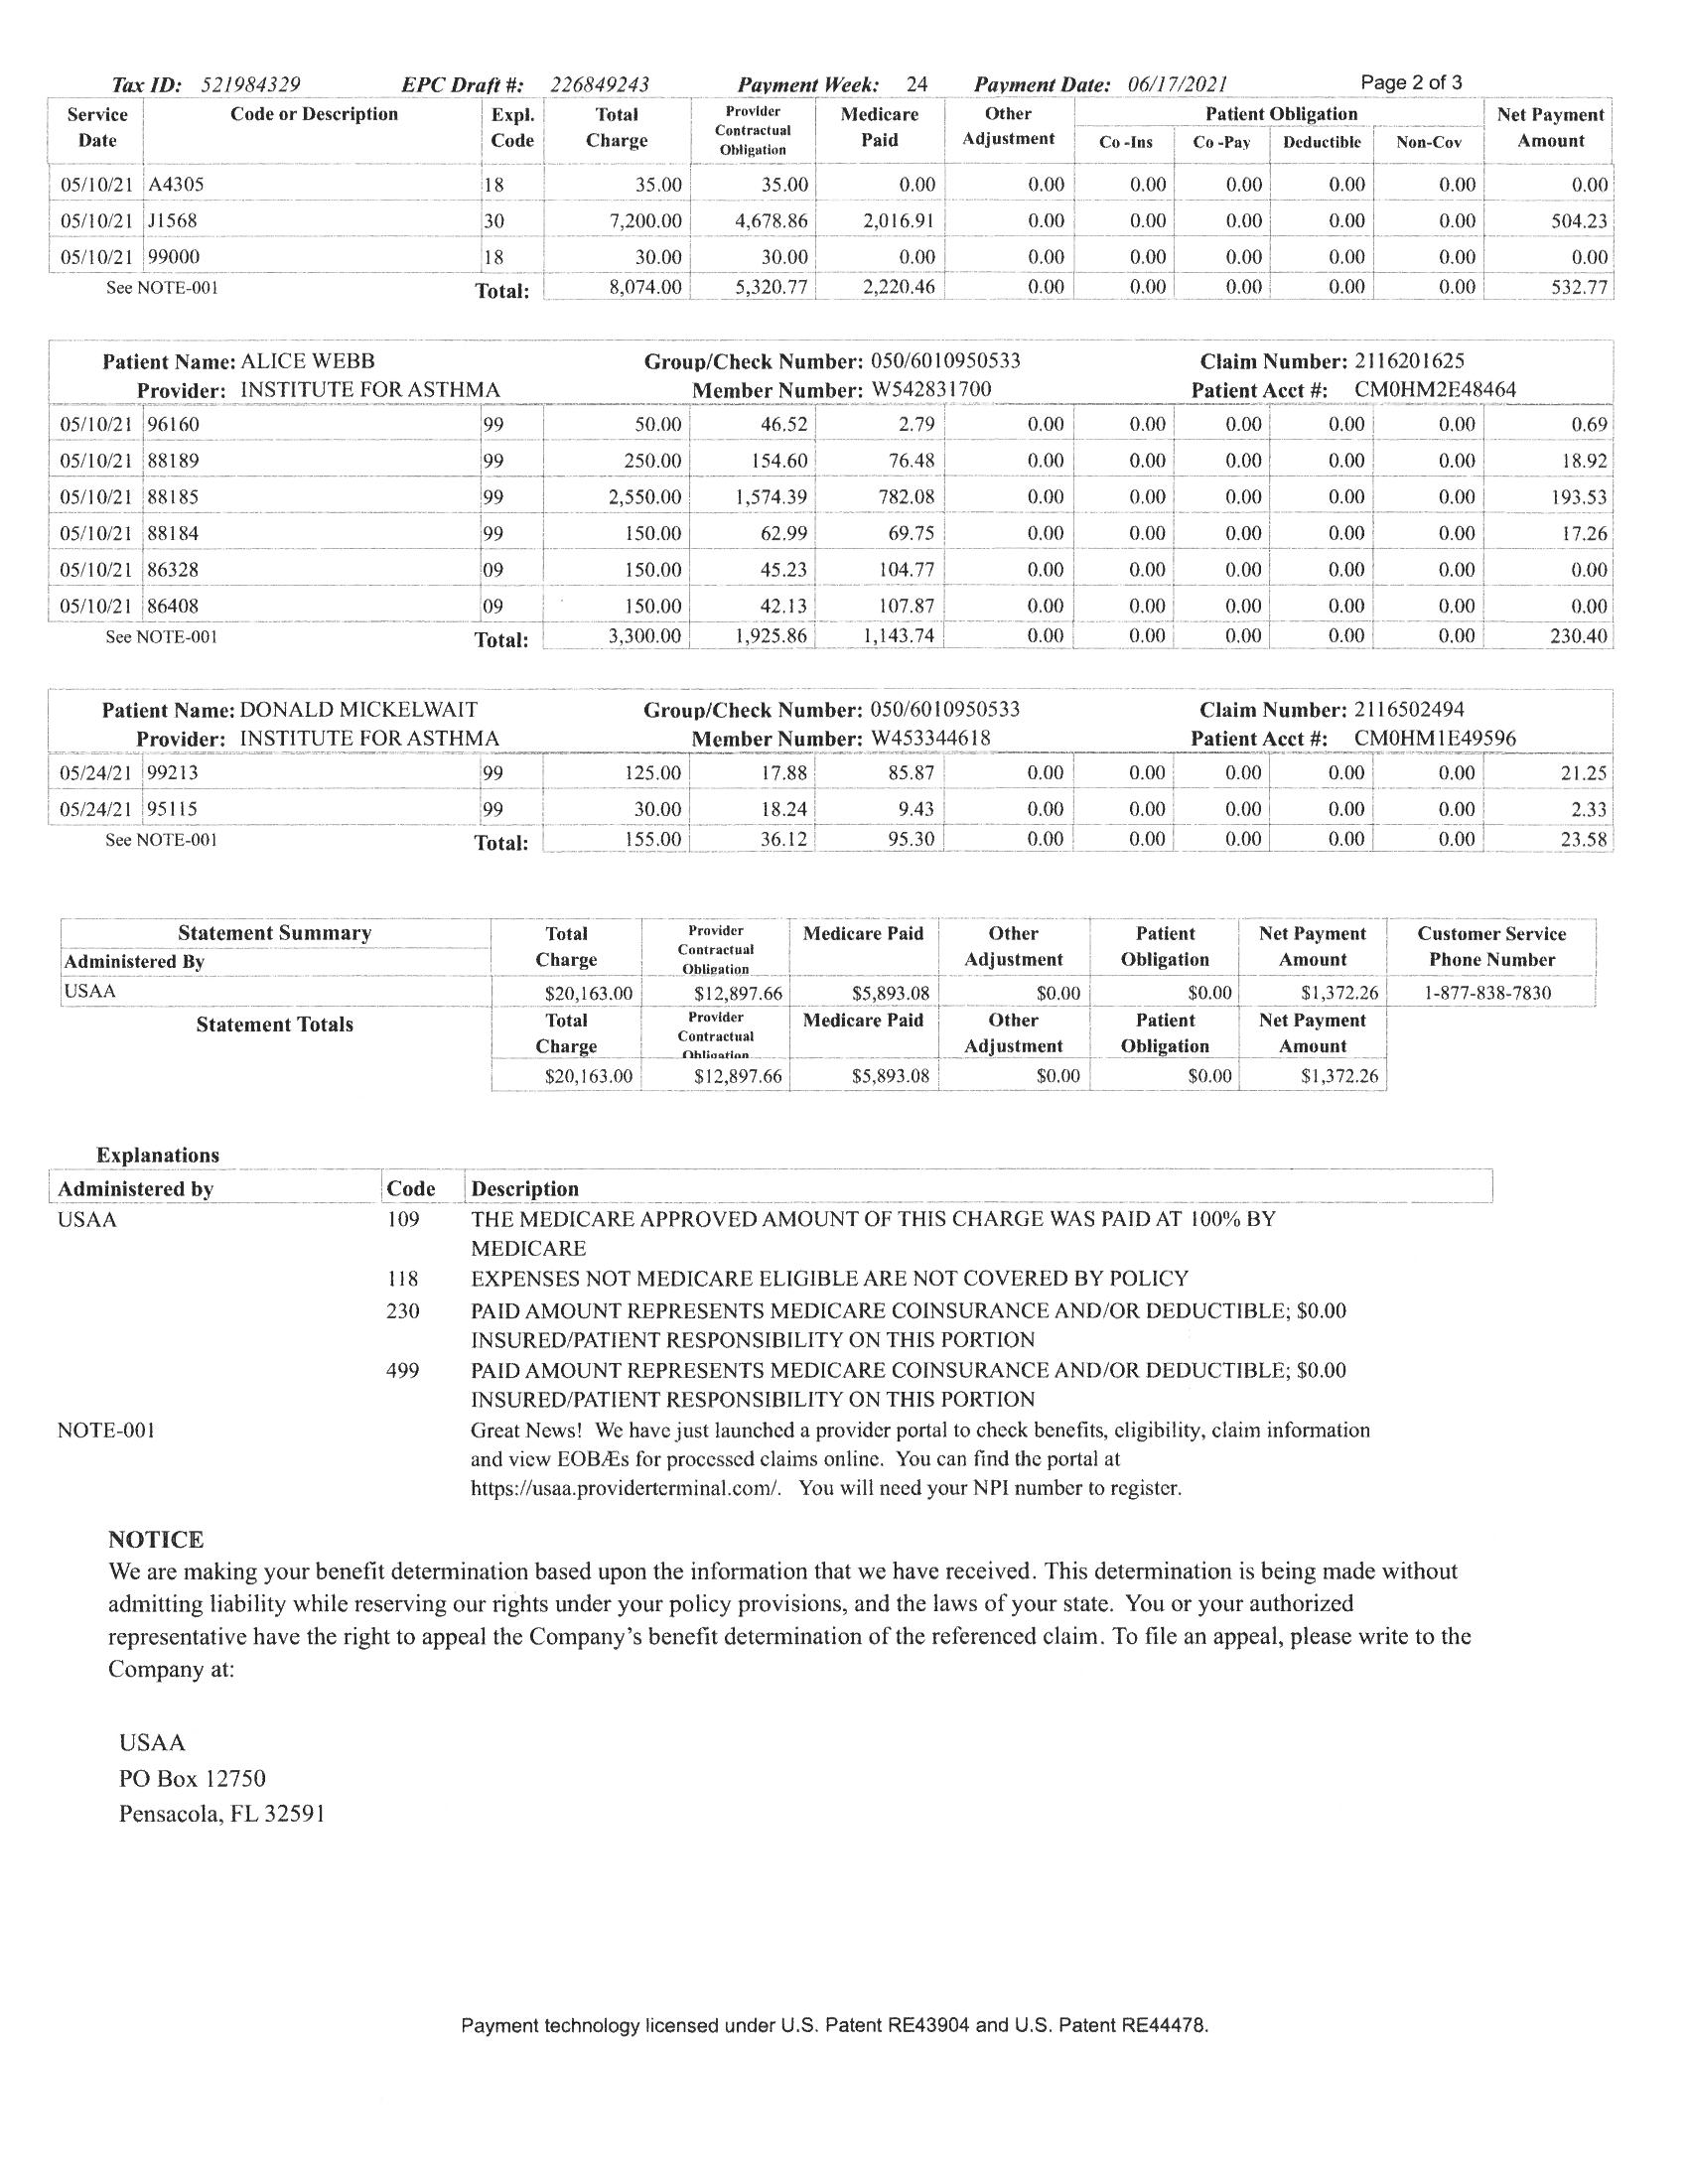table: (39, 324, 1633, 663), (28, 48, 1626, 305), (44, 893, 1590, 1111), (28, 681, 1629, 872)
